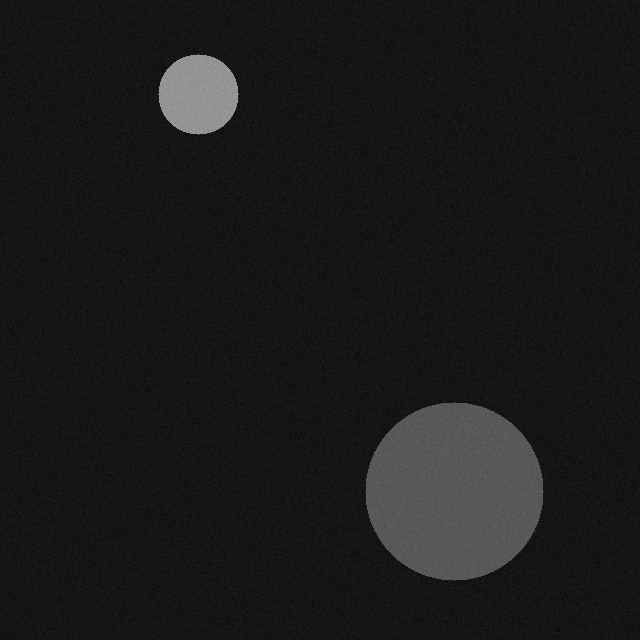circle: (356, 405, 534, 583), (149, 57, 229, 137)
